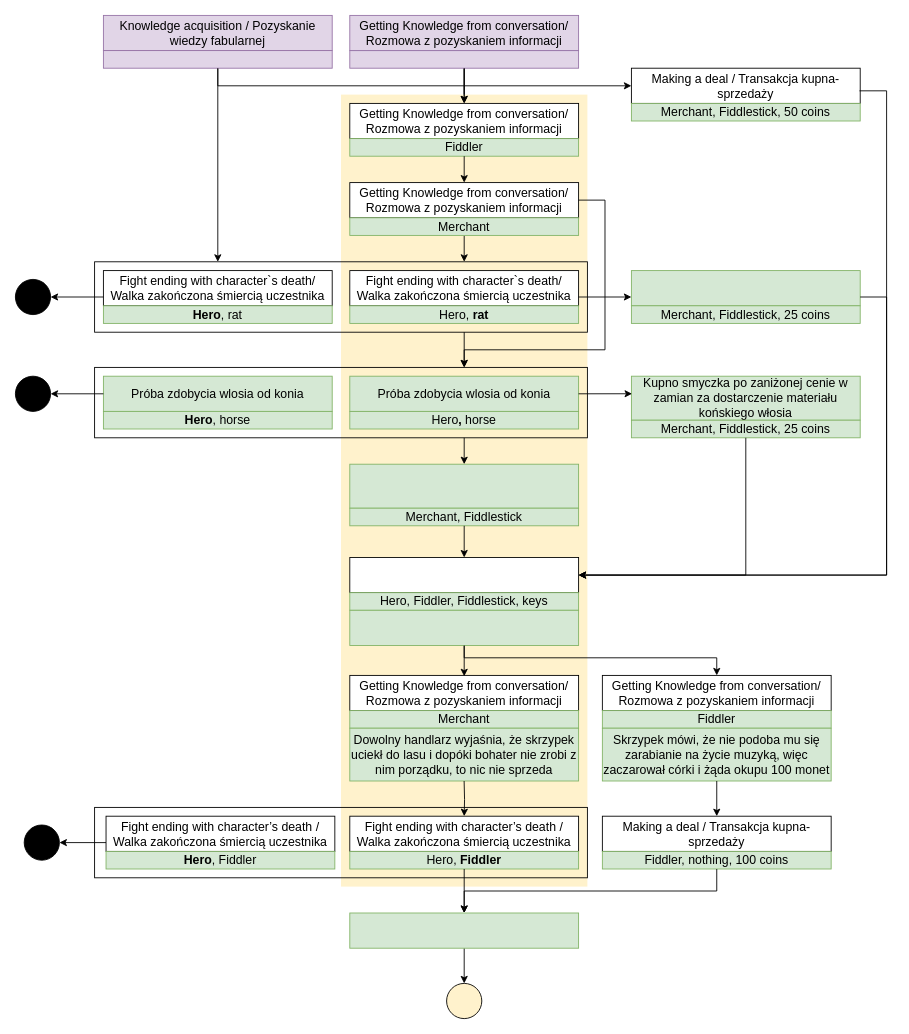
Some shapes in this 909 by 1034 pixel diagram are drawn without their labels. The shapes that lost their labels are listed below. From the top down, each one's box as (x1, y1, x2, y2) in pixels, then its label:
(103, 50, 332, 68): Road
(349, 50, 579, 68): Inkeeper/Fiddler
(631, 270, 860, 306): Kupno smyczka po zaniżonej cenie w podzięce za pozbycie się szczurów
(349, 463, 579, 508): Otrzymanie smyczka za darmo za wykonanie obu zadań
(349, 557, 579, 593): Exchanging item for item/ Wymiana przedmiotu na przedmiot
(349, 609, 579, 645): Zniknięcie córek, skrzypek ucieka do lasu porywając córki, handlarze strajkują
(349, 912, 579, 948): Powrót córek, handlarze zawieszają strajk
